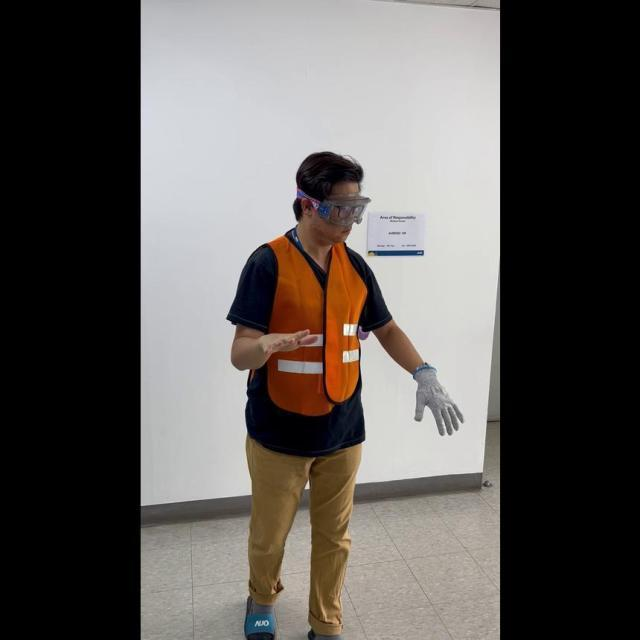bare_hand: (255, 322, 314, 359)
gloved_hand: (408, 358, 463, 435)
